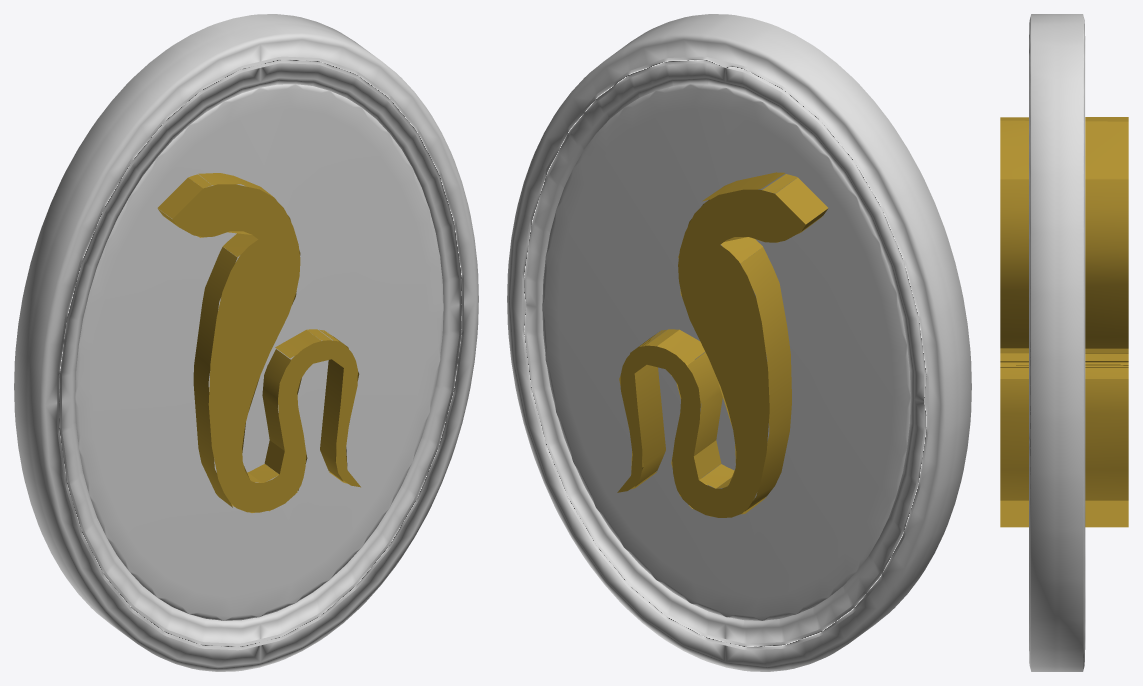
File: Serpiente_key.fbx
3 views of the same model, side by side, from view 1: azimuth 30°, elevation 25°; view 2: azimuth 150°, elevation 25°; view 3: azimuth 270°, elevation 25° (orthographic).
Visible parts, largest first — view 1: Cylinder, Serpiente; view 2: Cylinder, Serpiente; view 3: Cylinder, Serpiente.
Part boxes in pixels (left/top/right/bottom): Cylinder: left=14, top=14, right=478, bottom=671; Serpiente: left=157, top=173, right=360, bottom=512; Cylinder: left=507, top=14, right=971, bottom=671; Serpiente: left=617, top=172, right=828, bottom=517; Cylinder: left=1029, top=14, right=1085, bottom=671; Serpiente: left=1000, top=117, right=1128, bottom=527.
Size of the model in its own units: 6.23 by 8.55 by 1.6.
